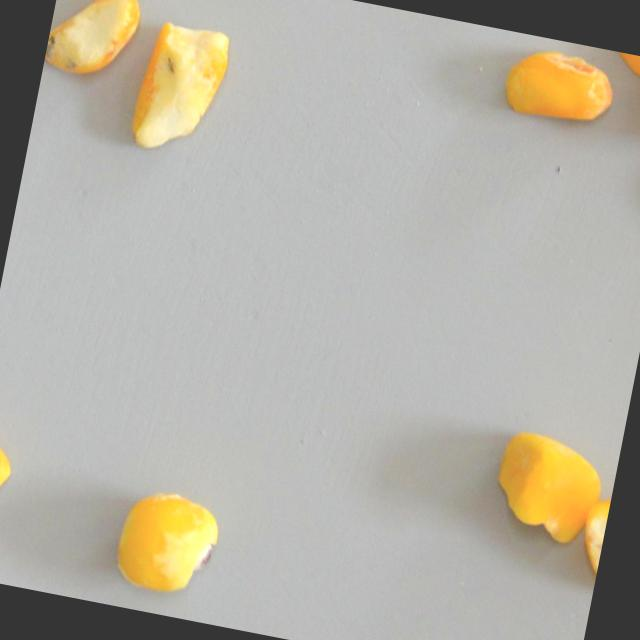dañado: (489, 31, 626, 143), (606, 51, 640, 79)
estandar: (484, 422, 611, 551)
pelicula: (568, 487, 613, 592), (0, 411, 31, 517)
punto_negro: (129, 5, 239, 162), (104, 484, 233, 605), (42, 0, 145, 89)
